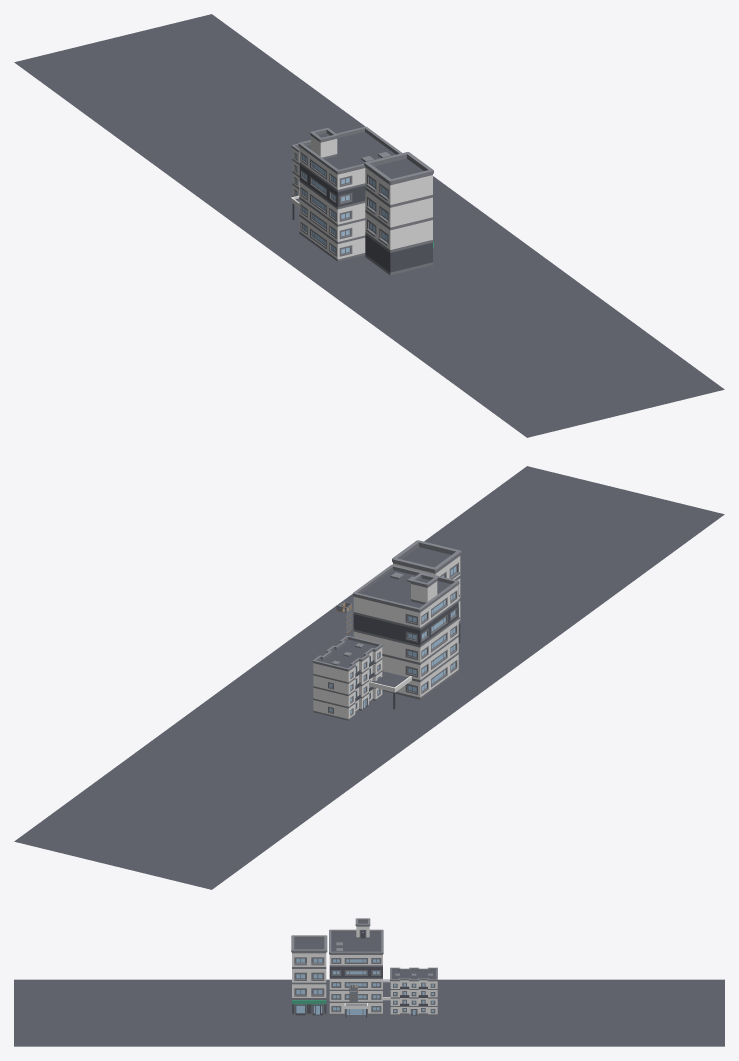
Rendered from Level_0_1.fbx.
3 views of the same model, one above another, from view 1: azimuth 30°, elevation 25°; view 2: azimuth 150°, elevation 25°; view 3: azimuth 270°, elevation 25° (orthographic). The views are drawn at different scales.
Visible parts, largest first — view 1: mergedBlocks; view 2: mergedBlocks; view 3: mergedBlocks.
Boxes of the visible parts, x1=… form: mergedBlocks: x1=14, y1=14, x2=724, y2=437; mergedBlocks: x1=14, y1=466, x2=724, y2=889; mergedBlocks: x1=14, y1=918, x2=724, y2=1046.
Bounding box in the file's own units: 810 × 422 × 3636.
20 materials, 5 textured.
